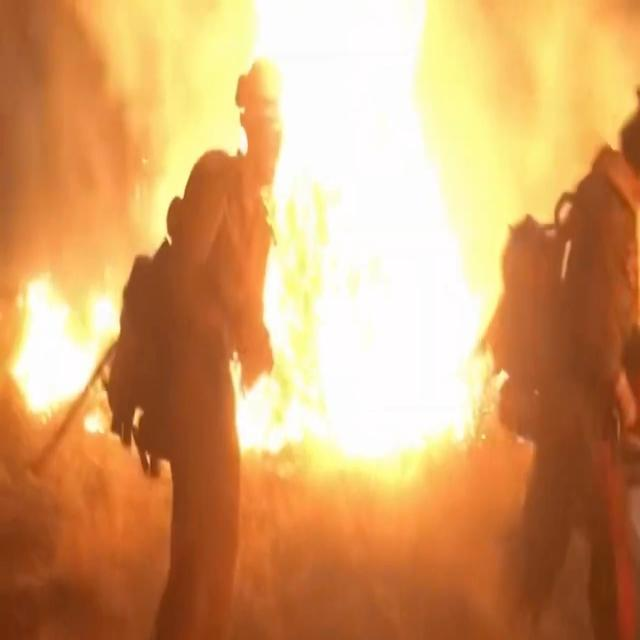Fire: (239, 3, 492, 474), (15, 276, 116, 438)
